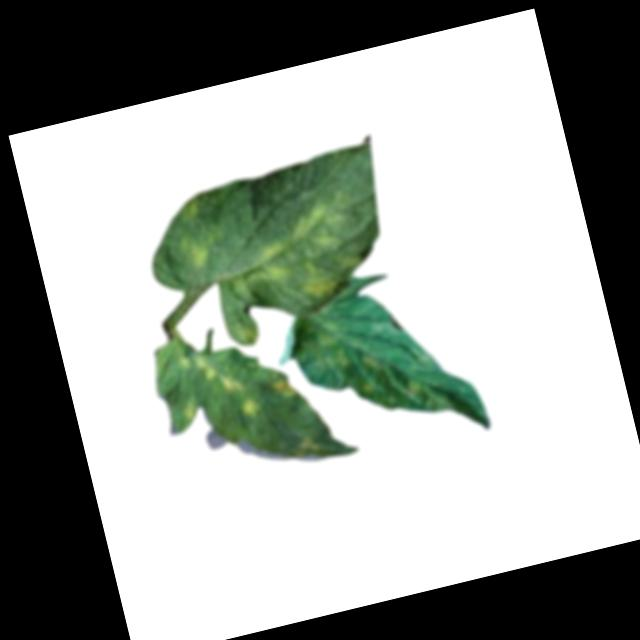Leaf_Mold: (237, 195, 368, 311), (284, 301, 353, 378), (349, 344, 422, 414), (168, 195, 228, 274), (180, 350, 218, 385), (267, 375, 295, 403), (291, 438, 320, 462), (217, 372, 243, 397), (239, 394, 262, 421), (178, 398, 200, 423)
